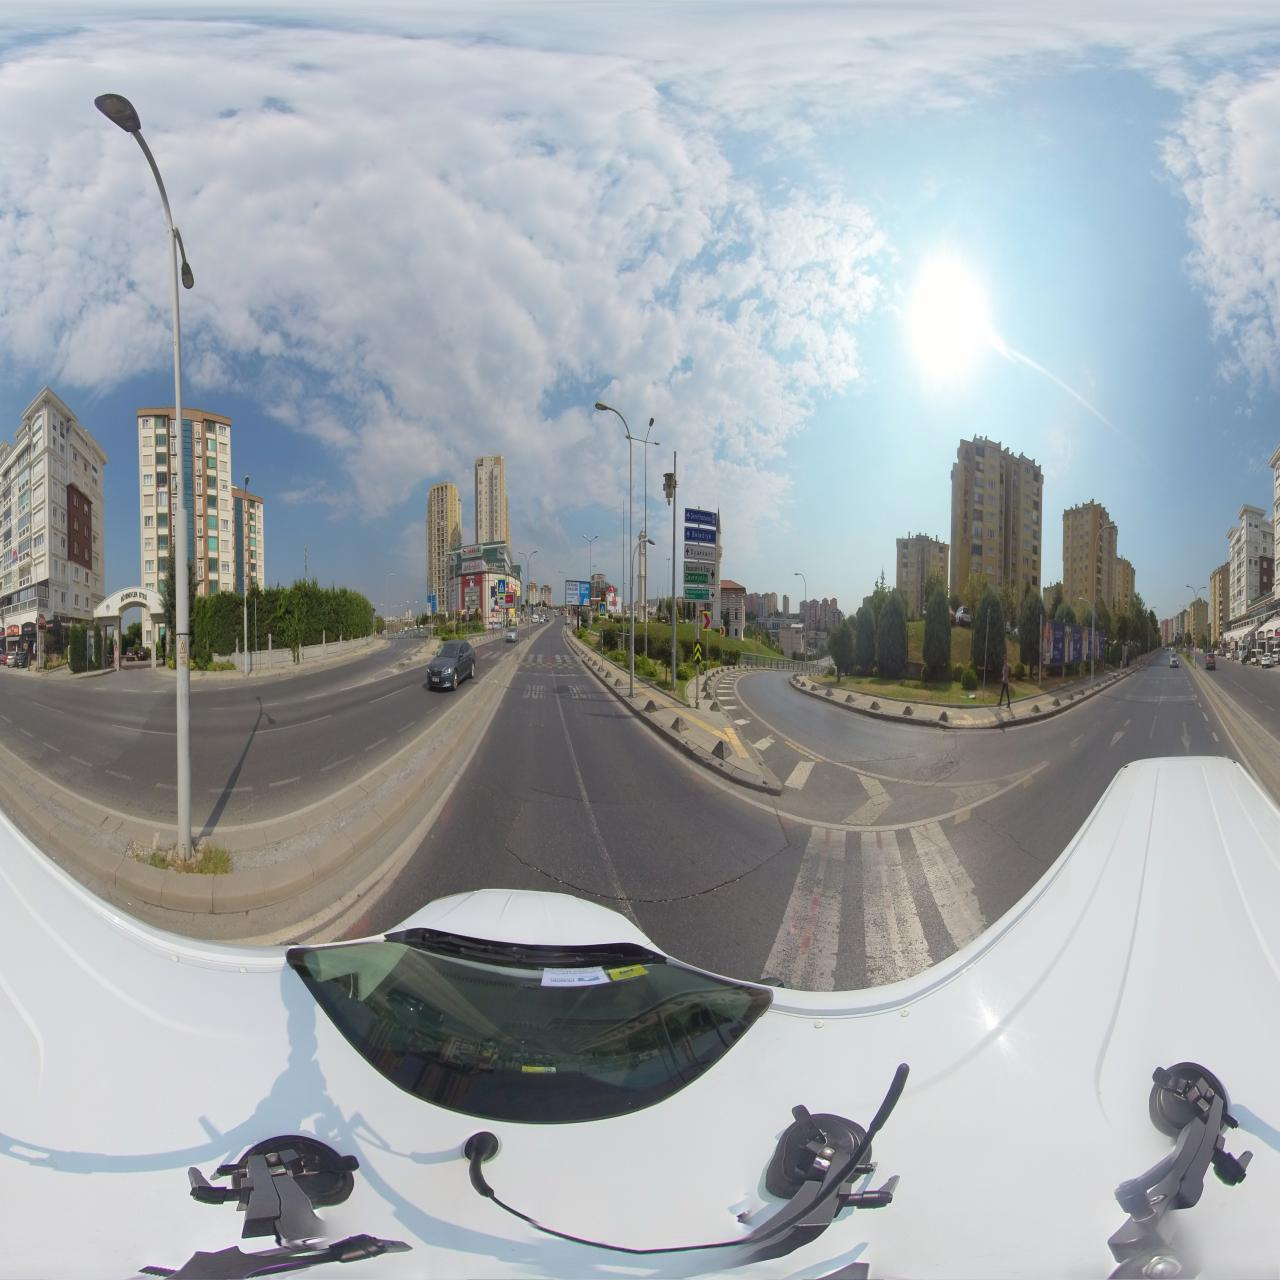SignStore: (21, 622, 38, 634), (46, 619, 60, 629), (7, 625, 19, 635)
